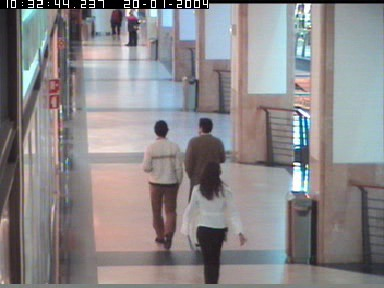person: (181, 160, 247, 283), (184, 117, 226, 249), (141, 119, 183, 249), (125, 10, 139, 46), (111, 9, 123, 37)
